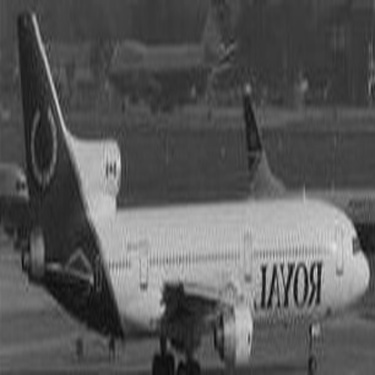airplane: (1, 2, 371, 371)
